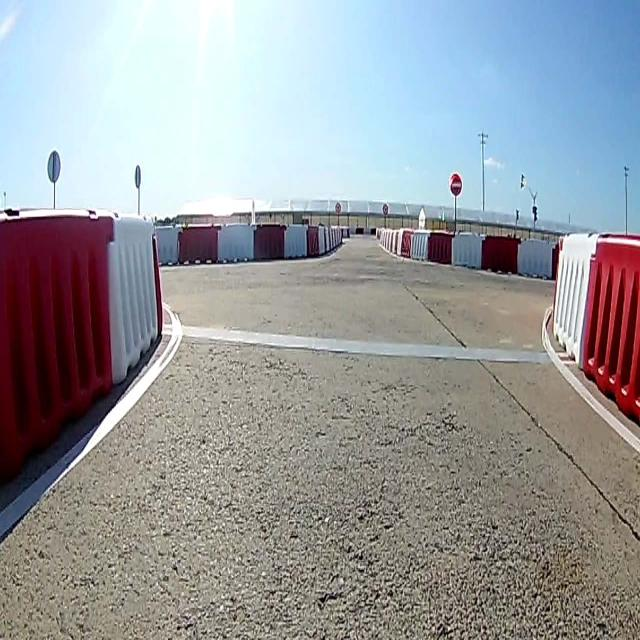girisyok: (448, 170, 464, 200)
